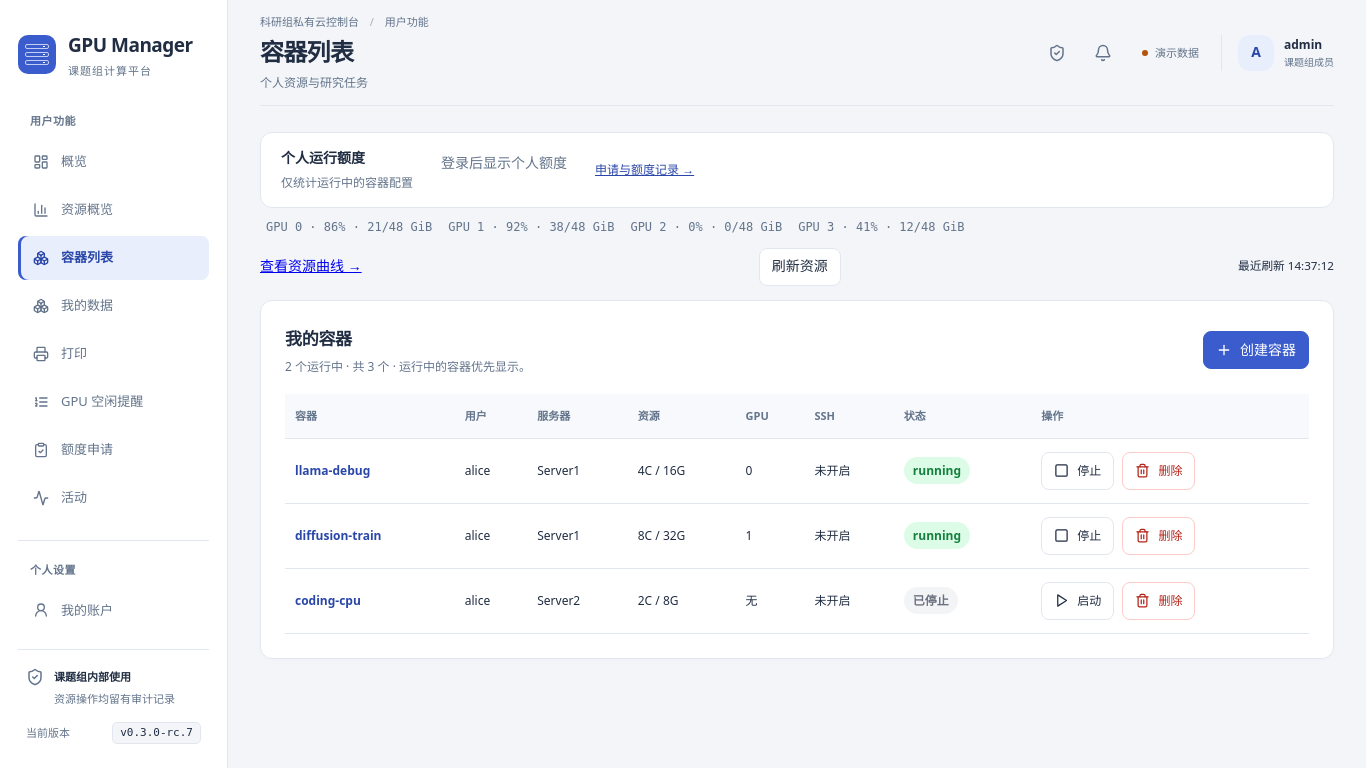
Test: approval submission closes the dialog without reporting a created container
The width and height of the screenshot is (1366, 768).
Click the button "创建容器". click: point(1256, 350)
box: [1203,331,1309,369]
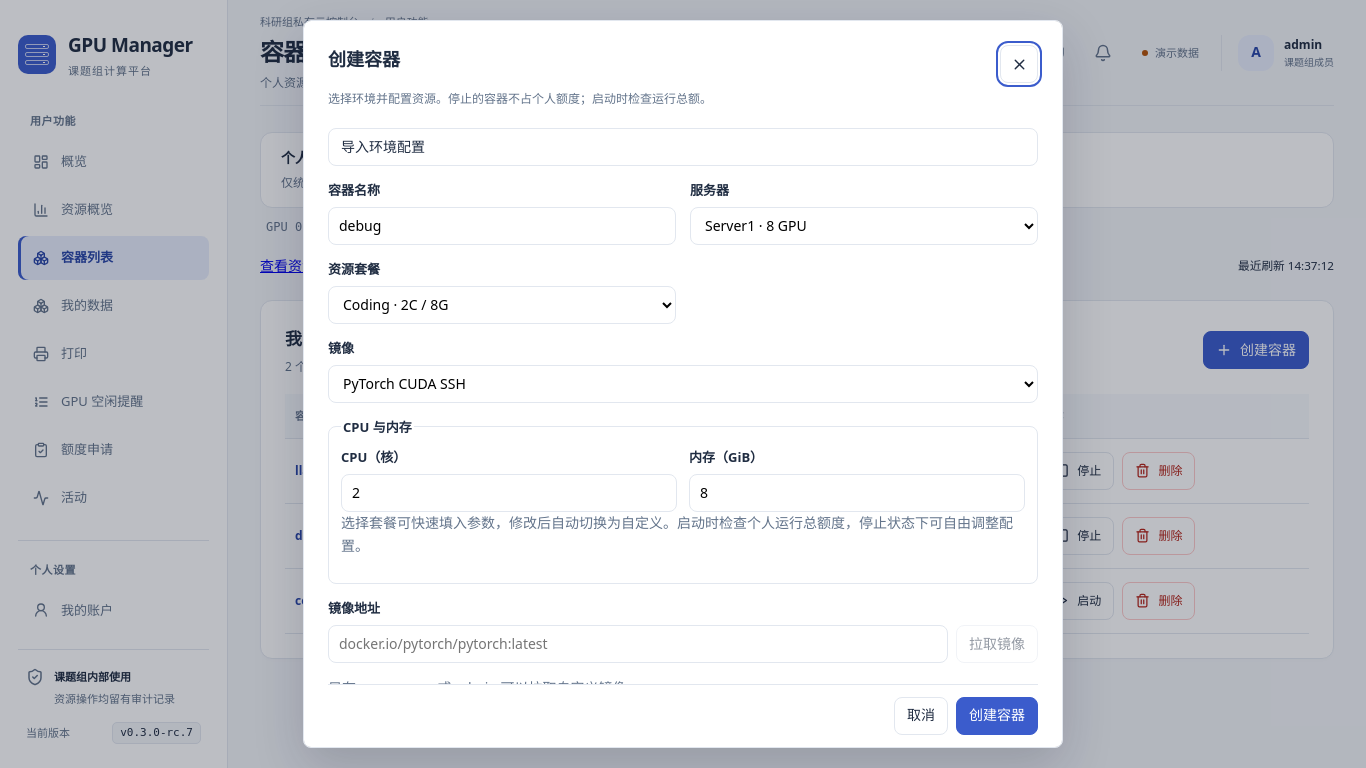
Replace the text in the number field labelled "内存（GiB）" with "48". click: point(857, 493)
box: [689,474,1025,512]
(page scrolled)
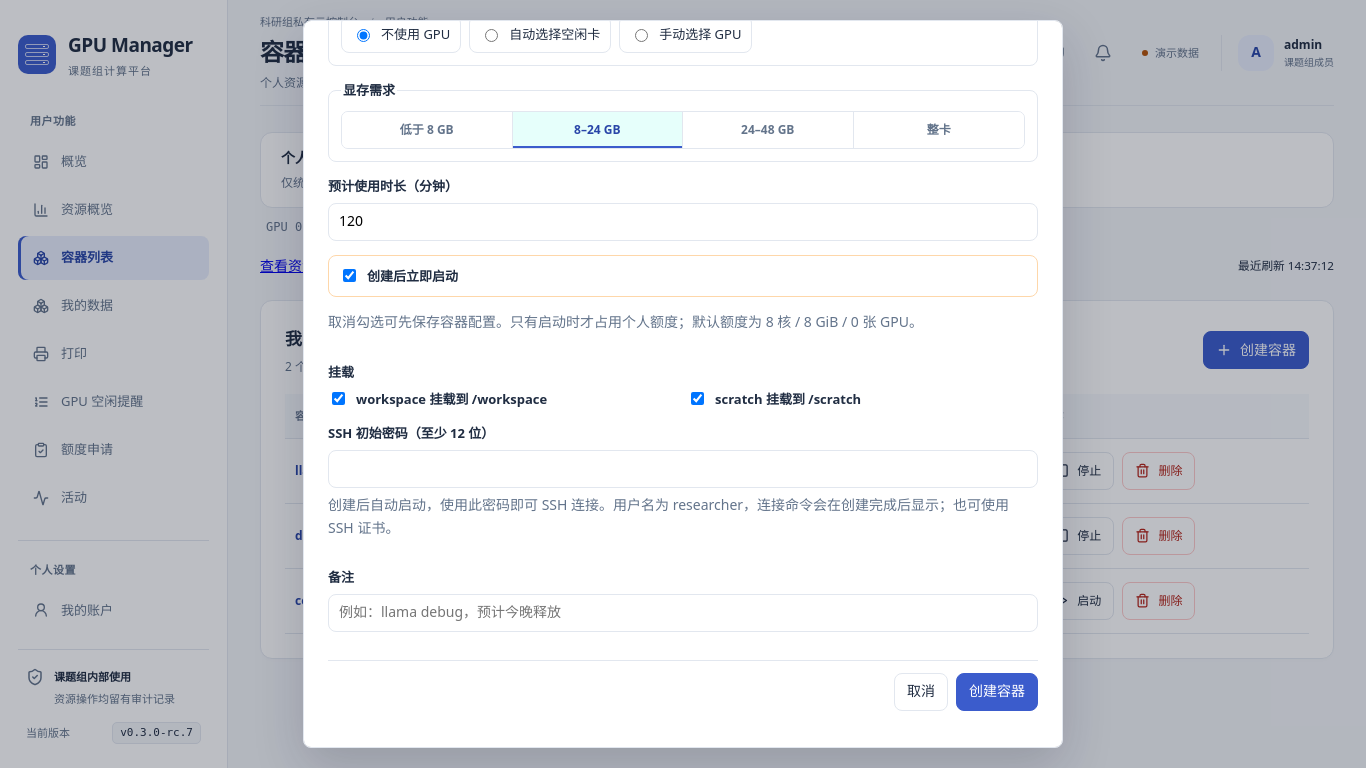
Type "creation-ssh-password" into the password field labelled "SSH 初始密码（至少 12 位）". click: point(683, 469)
box: [328,450,1038,488]
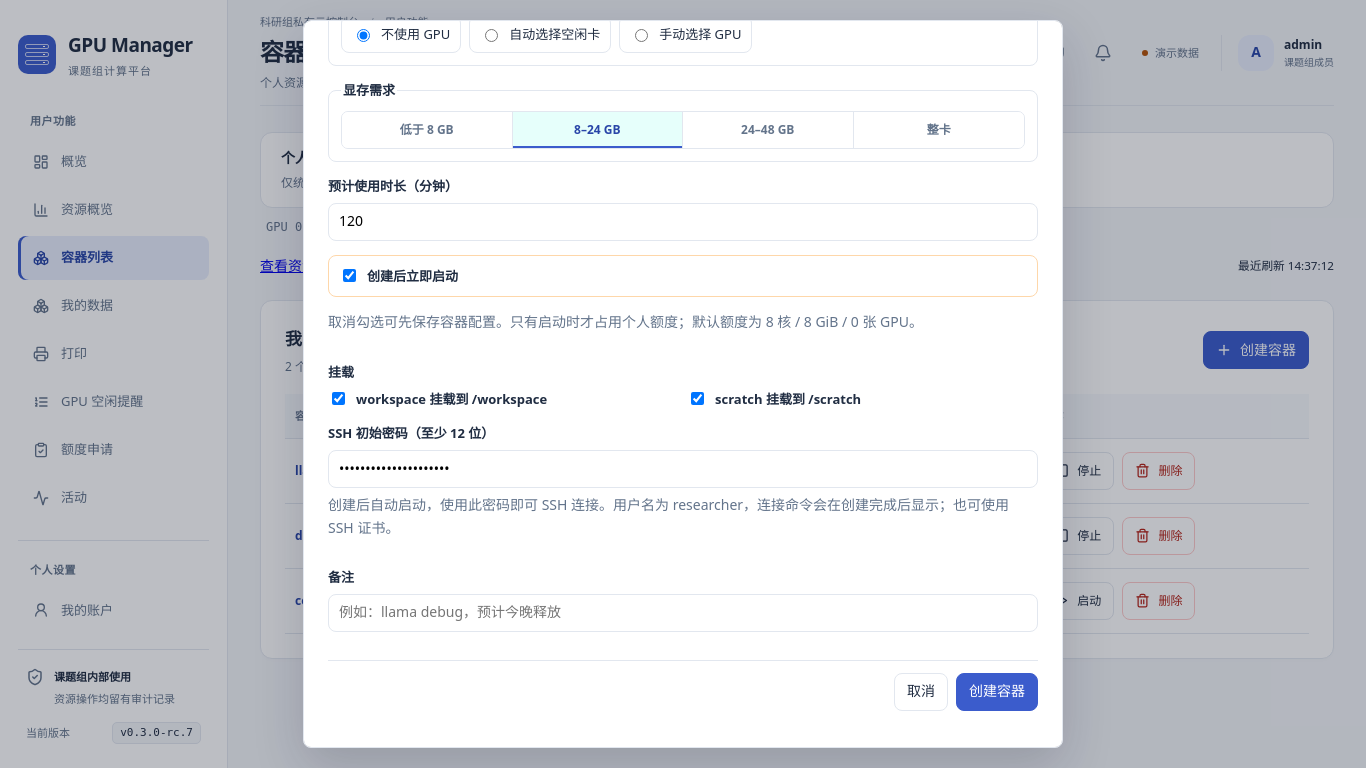
Click the button "创建容器". click: point(997, 692)
box: [956,673,1038,711]
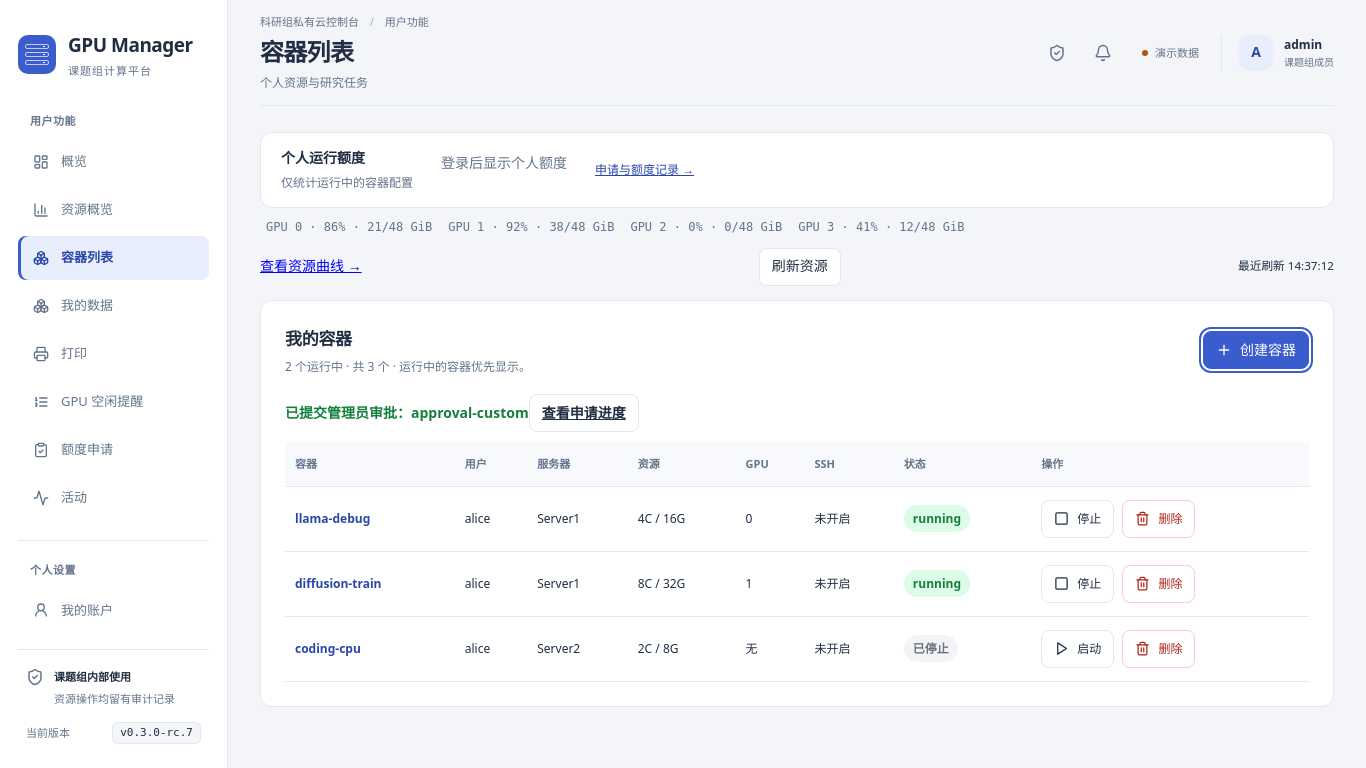
Now the text "已提交管理员审批：approval-custom" is shown, box [285,403,529,422]
Now the dialog is gone
